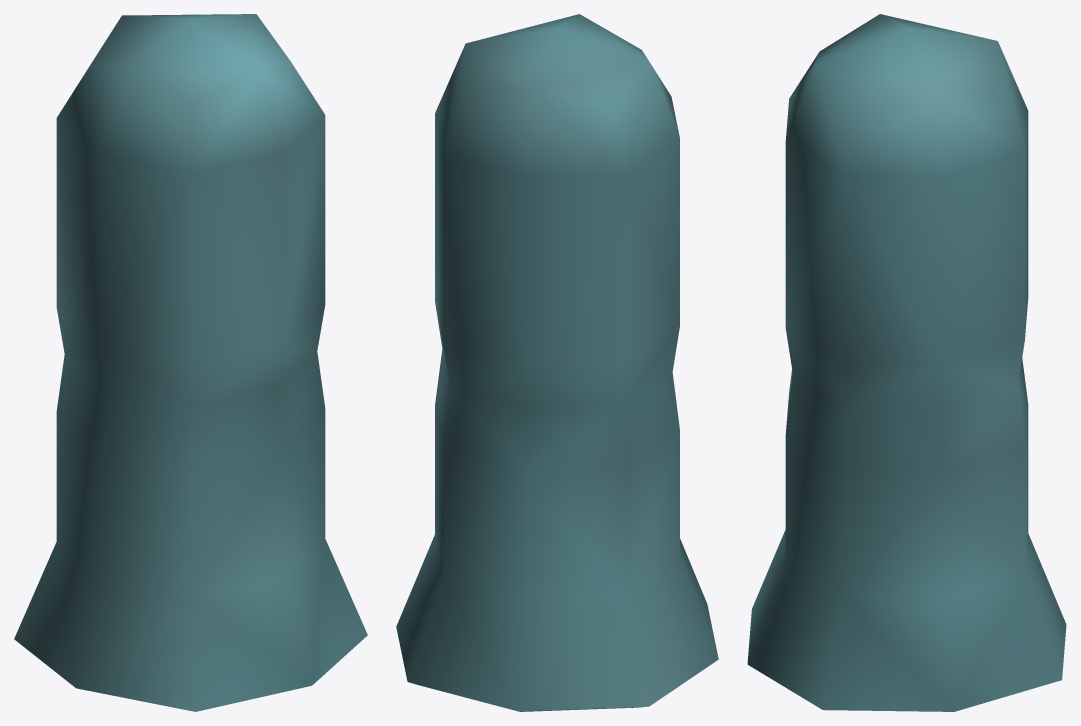
The model's file is geology-crystals-tinystalagmite_v2.fbx.
3 views of the same model, side by side, from view 1: azimuth 30°, elevation 25°; view 2: azimuth 150°, elevation 25°; view 3: azimuth 270°, elevation 25° (orthographic).
Parts seen in each view (by area): view 1: TinyStalagmite_v2; view 2: TinyStalagmite_v2; view 3: TinyStalagmite_v2.
Boxes of the visible parts, bbox=[...] form: TinyStalagmite_v2: bbox=[14, 14, 367, 711]; TinyStalagmite_v2: bbox=[396, 14, 718, 711]; TinyStalagmite_v2: bbox=[747, 14, 1066, 711].
Size of the model in its own units: 2.49 by 5.36 by 2.49.
